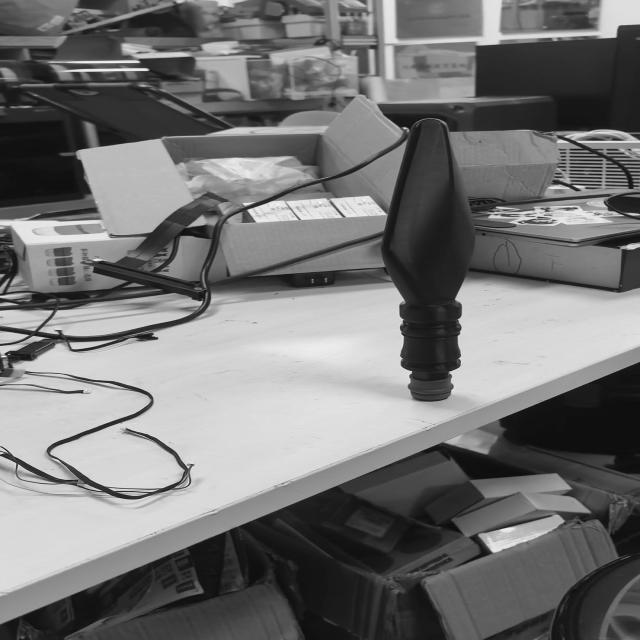base: (407, 374, 461, 406)
